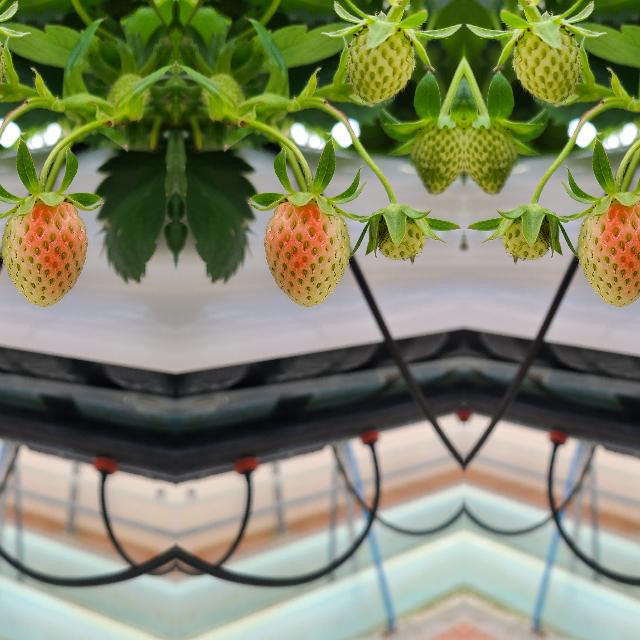Health_25: (350, 22, 414, 104), (512, 22, 576, 104), (415, 116, 463, 194), (463, 116, 511, 194), (372, 210, 428, 262), (498, 210, 554, 262)
Health_50: (263, 201, 349, 305), (1, 201, 87, 305), (577, 201, 640, 305)
